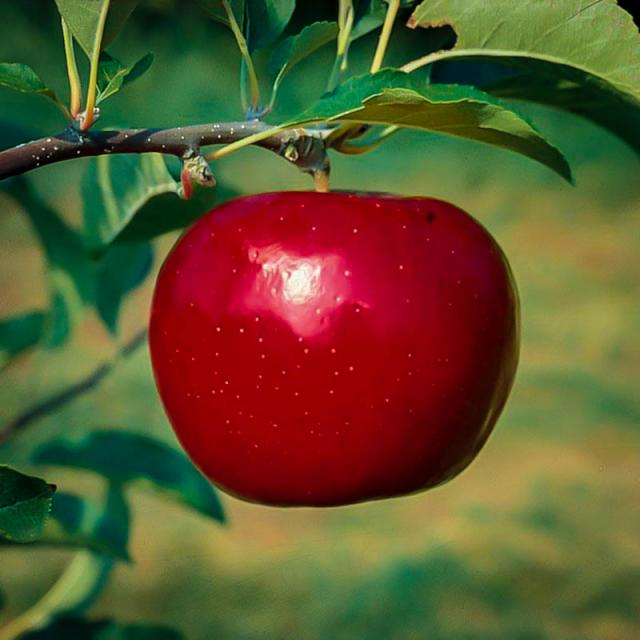Apple: (152, 191, 524, 513)
